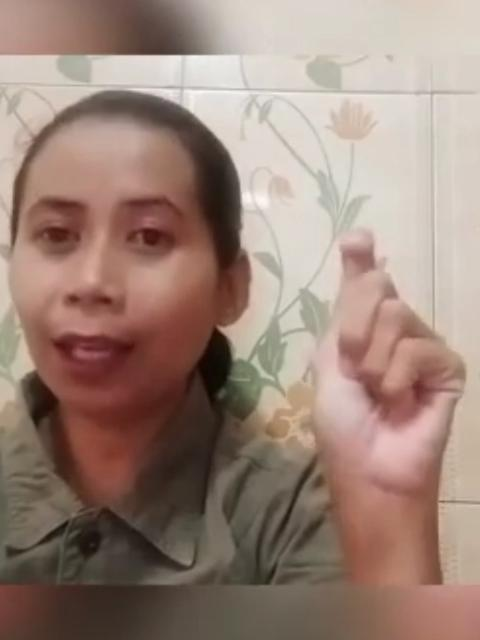T: (310, 226, 468, 492)
